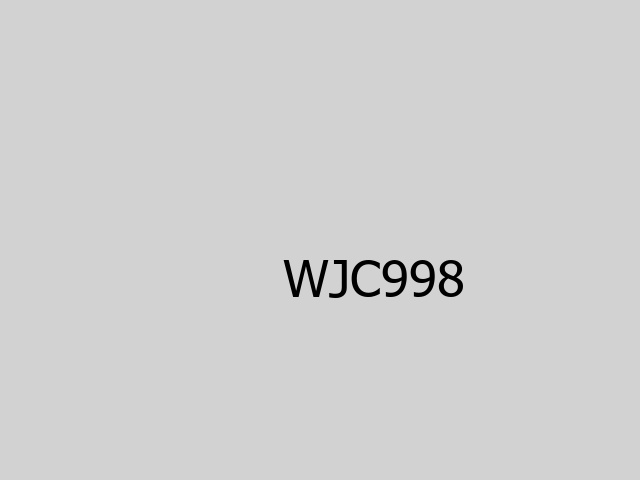OCR_AREA: (279, 256, 469, 302)
